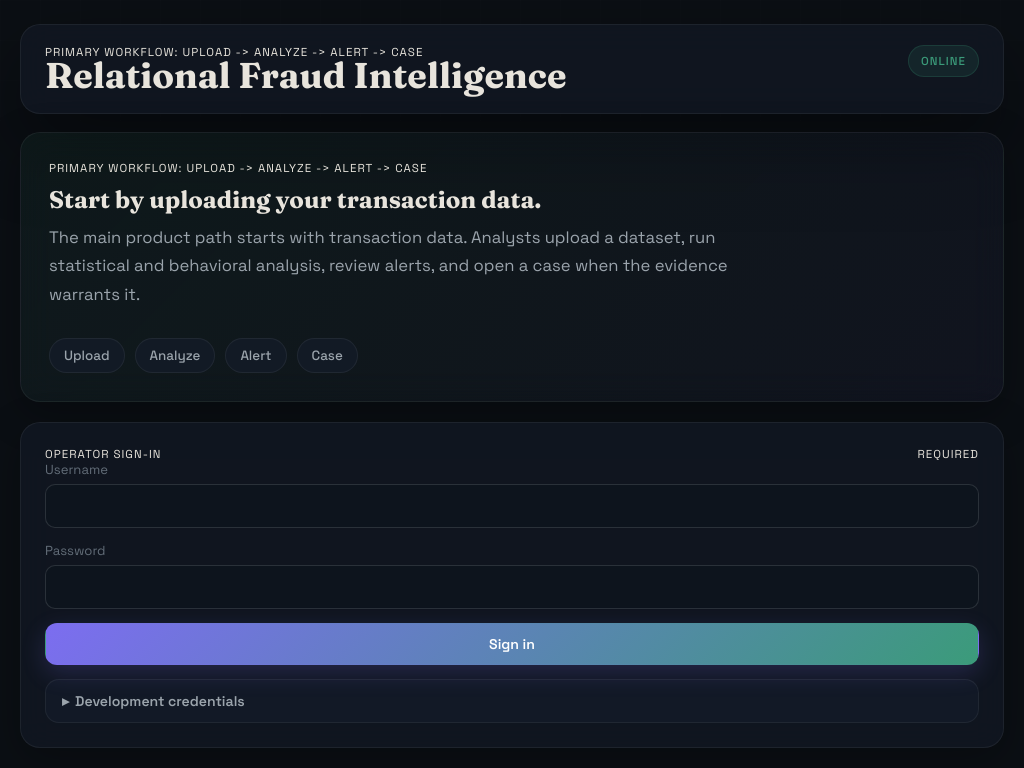
Scenario: Dashboard › creates a linked case from the analysis view
This screenshot has width=1024, height=768.
Type "analyst" into the field labelled "Username". click: (512, 506)
box: [45,484,979,528]
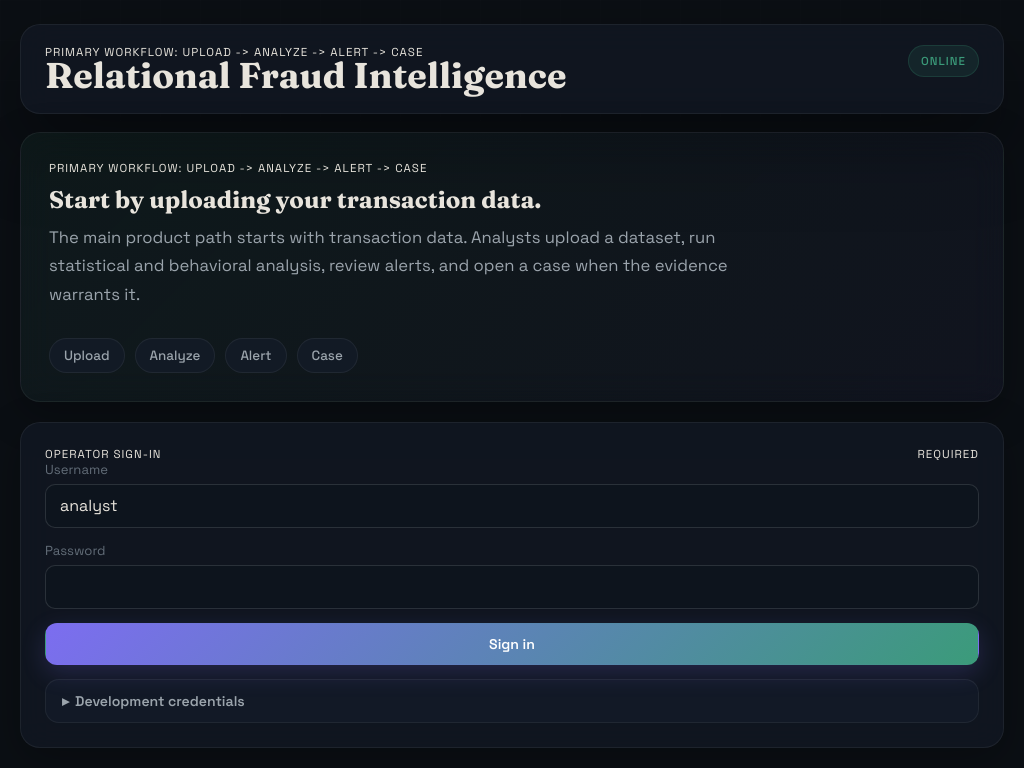
Type "AnalystPassword123!" into the password field labelled "Password". click: (512, 586)
box: [45,564,979,608]
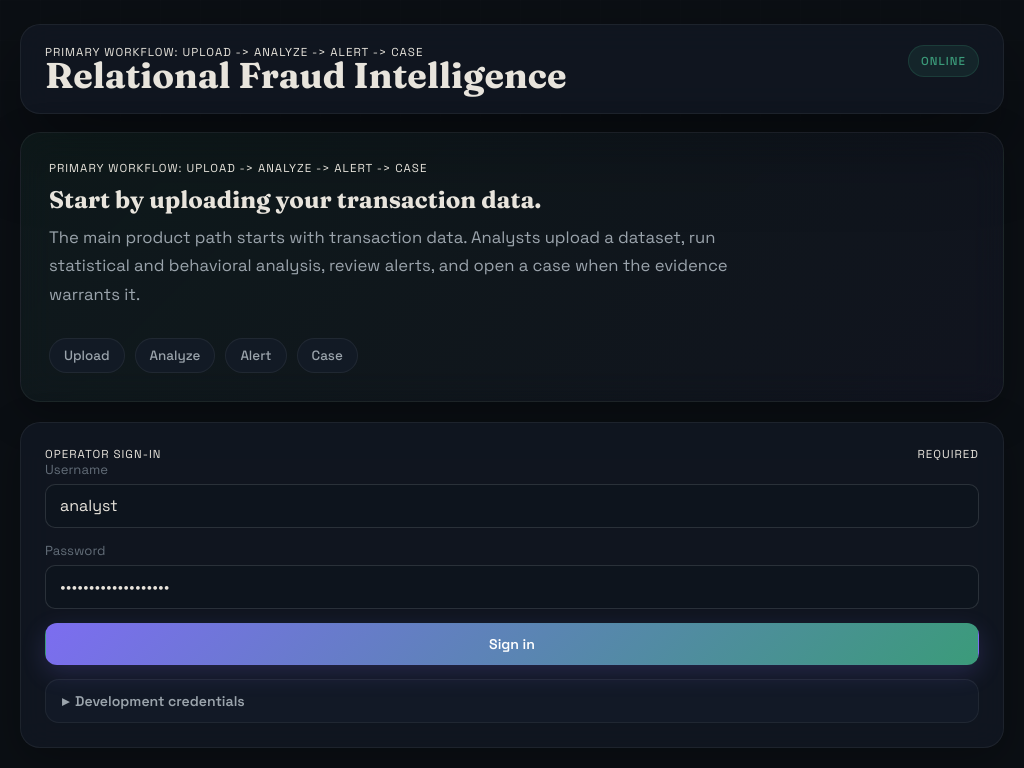
Submit the form "Sign in", box [45,460,979,664]
(page scrolled)
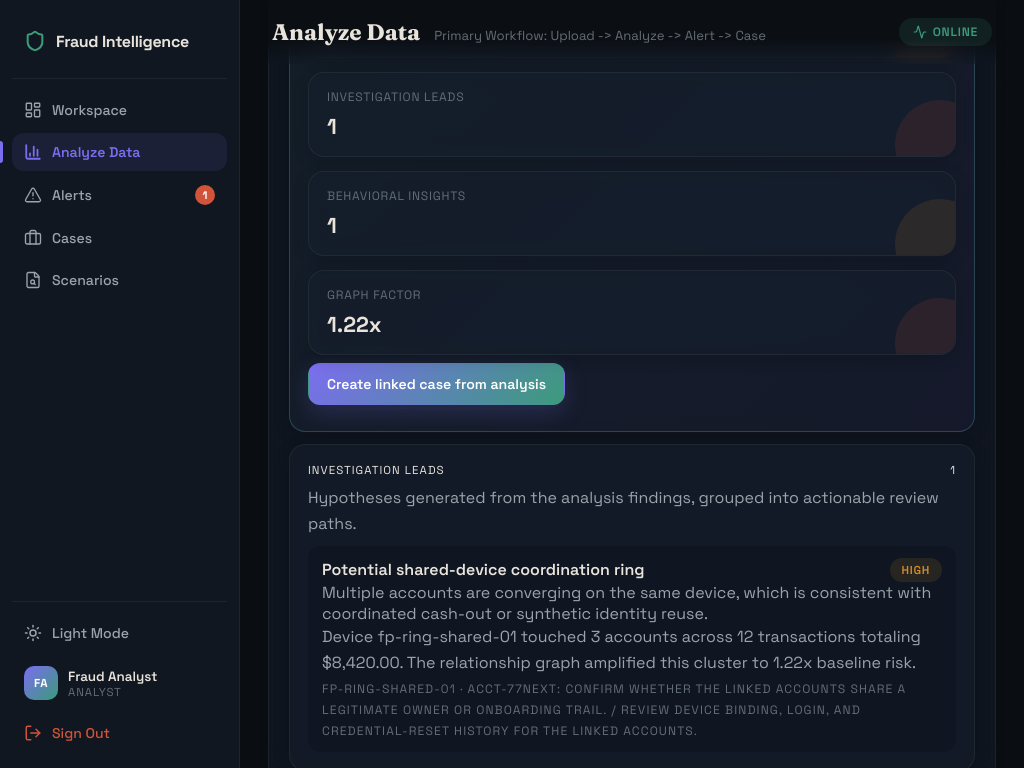
Now the text "Potential shared-device coordination ring" is shown, box [322,559,644,580]
Now the text "Investigation Leads" is shown, box [308,463,445,477]
Click the button "Create linked case from analysis". click: (437, 384)
box: [308,363,565,405]
(page scrolled)
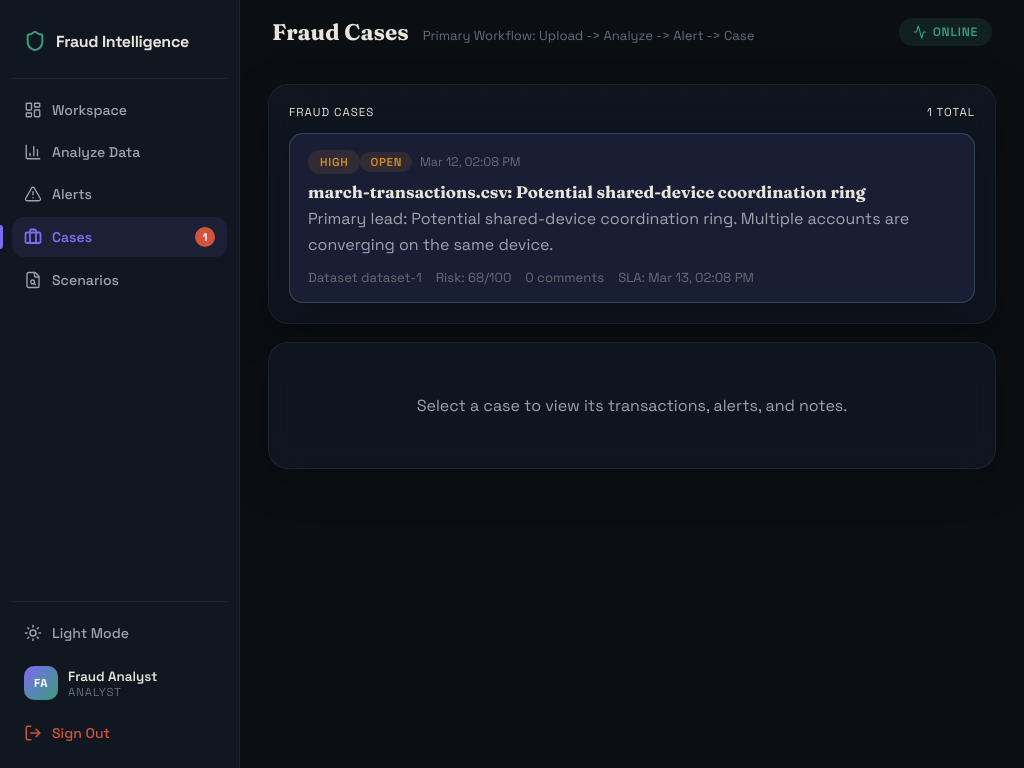
Now the heading "march-transactions.csv: Potential shared-device coordination ring" is shown, box [308,182,956,202]
